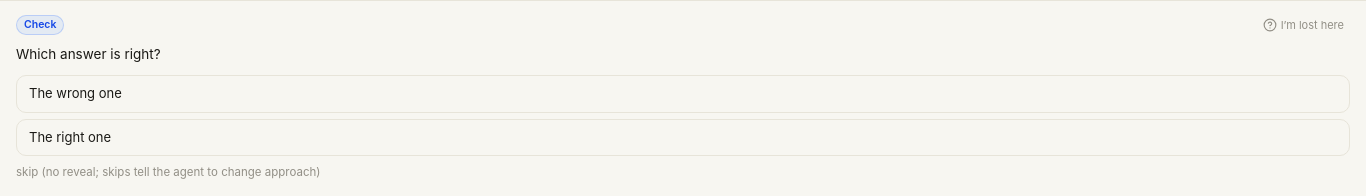
Scenario: CheckpointPart › 'I'm lost here' posts an anchored confusion_flag and confirms
Click the button "I’m lost here" at [1303, 25], box 1257,13 -> 1350,38
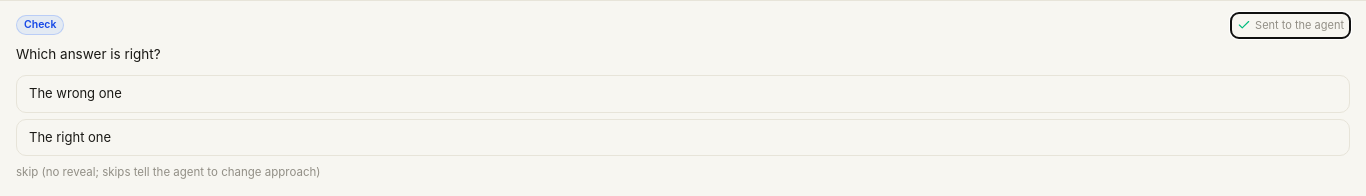
Now the button "Sent to the agent" is shown, box 1231,13 -> 1350,38
